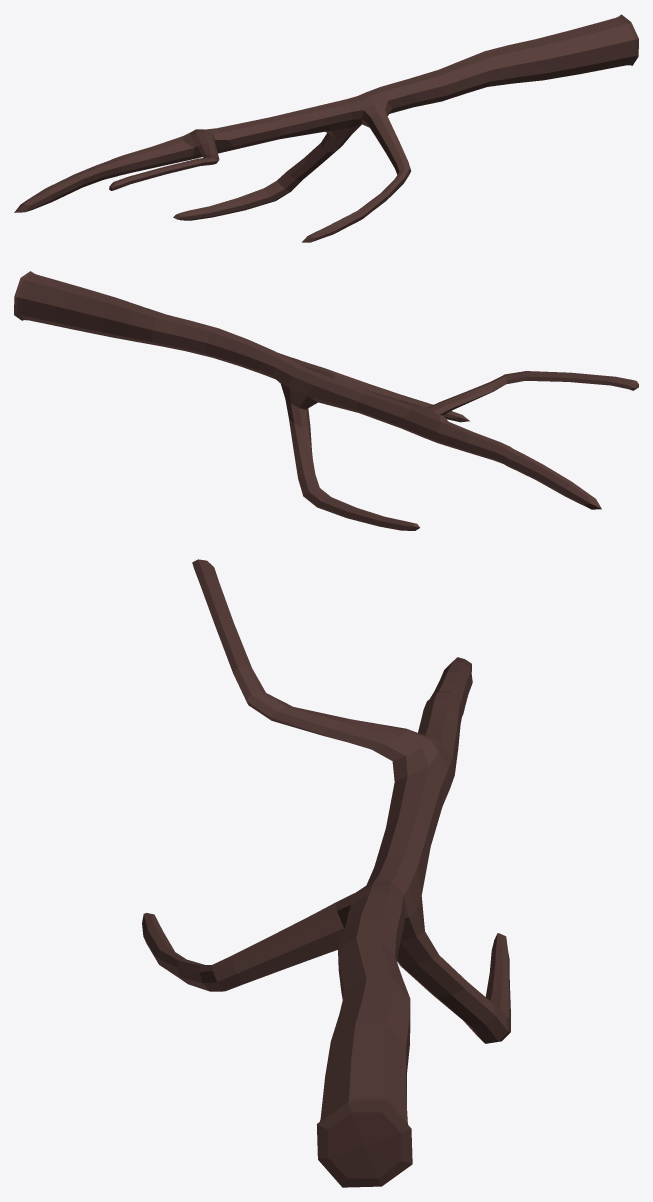
Rendered from nat_fallen_trunk_2.glb.
3 views of the same model, one above another, from view 1: azimuth 30°, elevation 25°; view 2: azimuth 150°, elevation 25°; view 3: azimuth 270°, elevation 25° (orthographic). The views are drawn at different scales.
Parts seen in each view (by area): view 1: nat_fallen_trunk_2; view 2: nat_fallen_trunk_2; view 3: nat_fallen_trunk_2.
Part boxes in pixels (<box>): nat_fallen_trunk_2: <box>14,14,638,242</box>; nat_fallen_trunk_2: <box>14,271,638,530</box>; nat_fallen_trunk_2: <box>142,559,510,1187</box>.
Size of the model in its own units: 3.9 by 0.8258 by 1.06.
